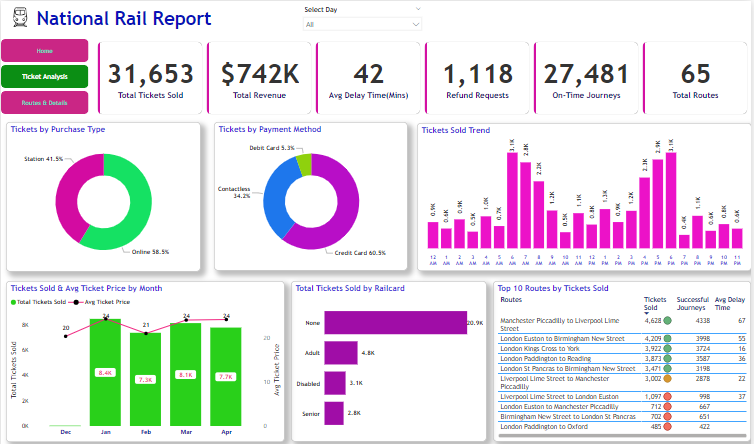

This screenshot's page, from the dashboard's own definition file:
{"tool":"powerbi","page":{"name":"Ticket Analysis","canvas":[1500,900],"ordinal":1},"visuals":[{"type":"textbox","box":[65,7.5,416.2,55],"z":0},{"type":"cardVisual","fields":{"Data":["railway.Total Tickets Sold","railway.Total Revenue","railway.Avg Delay Time(Mins)","railway.Refund Requests","railway.On-Time Journeys","railway.Total Routes"]},"box":[188.3,75,1311.7,156.7],"z":1000},{"type":"donutChart","title":"Tickets by Purchase Type","fields":{"Category":["railway.Purchase Type"],"Y":["railway.Total Tickets Sold"]},"box":[10,241.4,388.6,298.6],"z":2000},{"type":"donutChart","title":"Tickets by Payment Method","fields":{"Y":["railway.Total Tickets Sold"],"Category":["railway.Payment Method"]},"box":[425.7,242.9,387.1,297.1],"z":3000},{"type":"columnChart","title":"Tickets Sold Trend","fields":{"Category":["railway.Hour(AM/PM)"],"Y":["railway.Total Tickets Sold"]},"box":[831.4,244.3,668.6,295.7],"z":4000},{"type":"lineClusteredColumnComboChart","title":"Tickets Sold & Avg Ticket Price by Month","fields":{"Category":["Date Table Purchase.Month Name"],"Y":["railway.Total Tickets Sold"],"Y2":["railway.Avg Ticket Price"]},"box":[10,560,557,322],"z":5000},{"type":"barChart","fields":{"Category":["railway.Railcard"],"Y":["railway.Total Tickets Sold"]},"box":[579,560,391,321],"z":6000},{"type":"tableEx","title":"Top 10 Routes by Tickets Sold","fields":{"Values":["railway.Routes","railway.Total Tickets Sold","railway.Sucessful Journeys","railway.Avg Delay Time(Mins)"]},"box":[984,560,516,321],"z":7000},{"type":"slicer","fields":{"Values":["Date Table Purchase.Day Name"]},"box":[593.8,3.1,258.5,67.7],"z":9000},{"type":"image","box":[11.2,8.8,53.8,48.8],"z":10000},{"type":"pageNavigator","box":[0,75,175,150],"z":10001}]}

Visuals, with their boxes in screenshot pixels (x1, y1, x2, y2), scaled from the page's 1500x900 canvas onto the 754x444 screenshot:
textbox: detection(33, 4, 242, 31)
cardVisual - railway.Total Tickets Sold x railway.Total Revenue: detection(95, 37, 753, 114)
"Tickets by Purchase Type" donutChart: detection(5, 119, 200, 266)
"Tickets by Payment Method" donutChart: detection(214, 120, 409, 266)
"Tickets Sold Trend" columnChart: detection(418, 121, 753, 266)
"Tickets Sold & Avg Ticket Price by Month" lineClusteredColumnComboChart: detection(5, 276, 285, 435)
barChart - railway.Railcard x railway.Total Tickets Sold: detection(291, 276, 488, 435)
"Top 10 Routes by Tickets Sold" tableEx: detection(495, 276, 753, 435)
slicer - Date Table Purchase.Day Name: detection(298, 2, 428, 35)
image: detection(6, 4, 33, 28)
pageNavigator: detection(0, 37, 88, 111)
